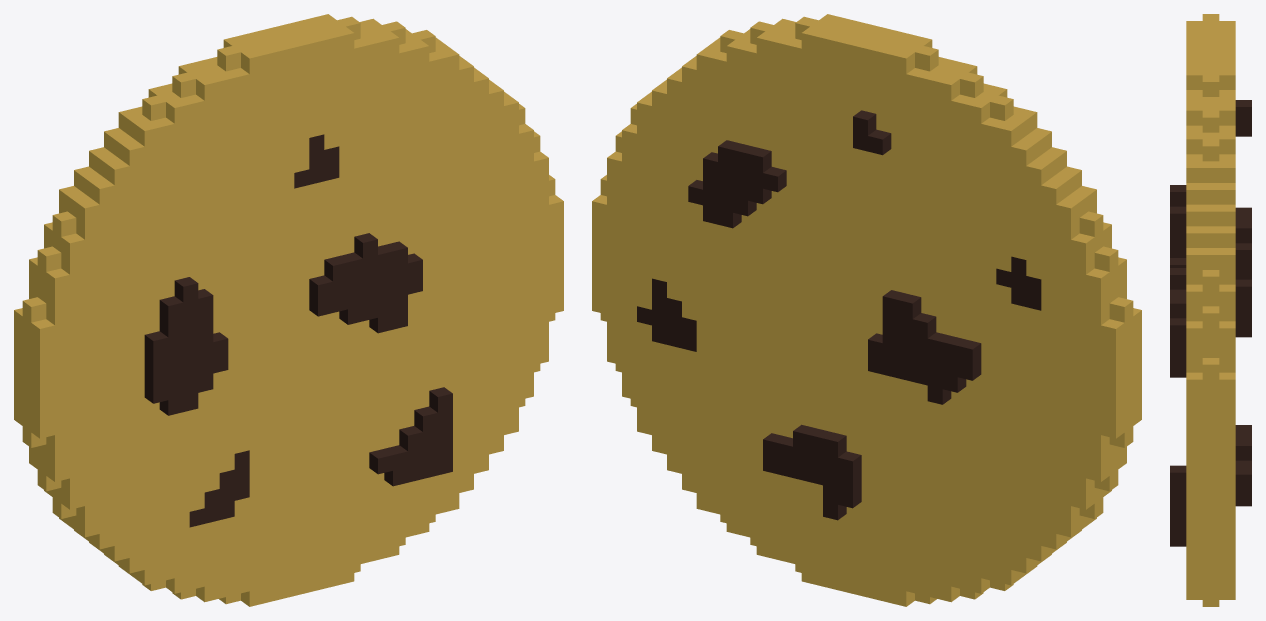
File: Cookie.fbx
3 views of the same model, side by side, from view 1: azimuth 30°, elevation 25°; view 2: azimuth 150°, elevation 25°; view 3: azimuth 270°, elevation 25° (orthographic). The views are drawn at different scales.
Visible parts, largest first — view 1: Cylinder; view 2: Cylinder; view 3: Cylinder.
Boxes of the visible parts, x1=… form: Cylinder: x1=14, y1=14, x2=563, y2=606; Cylinder: x1=592, y1=14, x2=1141, y2=606; Cylinder: x1=1170, y1=14, x2=1251, y2=606.
Size of the model in its own units: 198 by 198 by 28.3.
